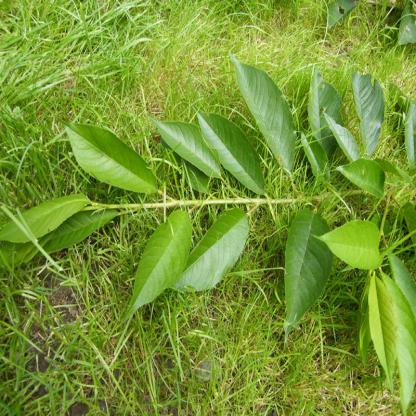cherry leaf: (218, 44, 302, 182), (57, 101, 164, 198), (123, 204, 196, 329), (282, 197, 332, 367), (179, 206, 263, 296), (193, 101, 268, 198), (146, 103, 220, 189), (314, 209, 389, 277), (303, 63, 350, 156), (367, 268, 400, 396)
